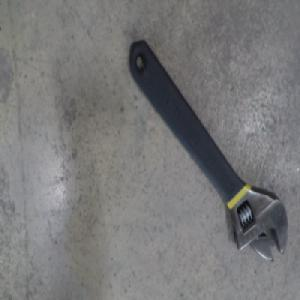AdjustableWrench: (127, 37, 288, 260)
